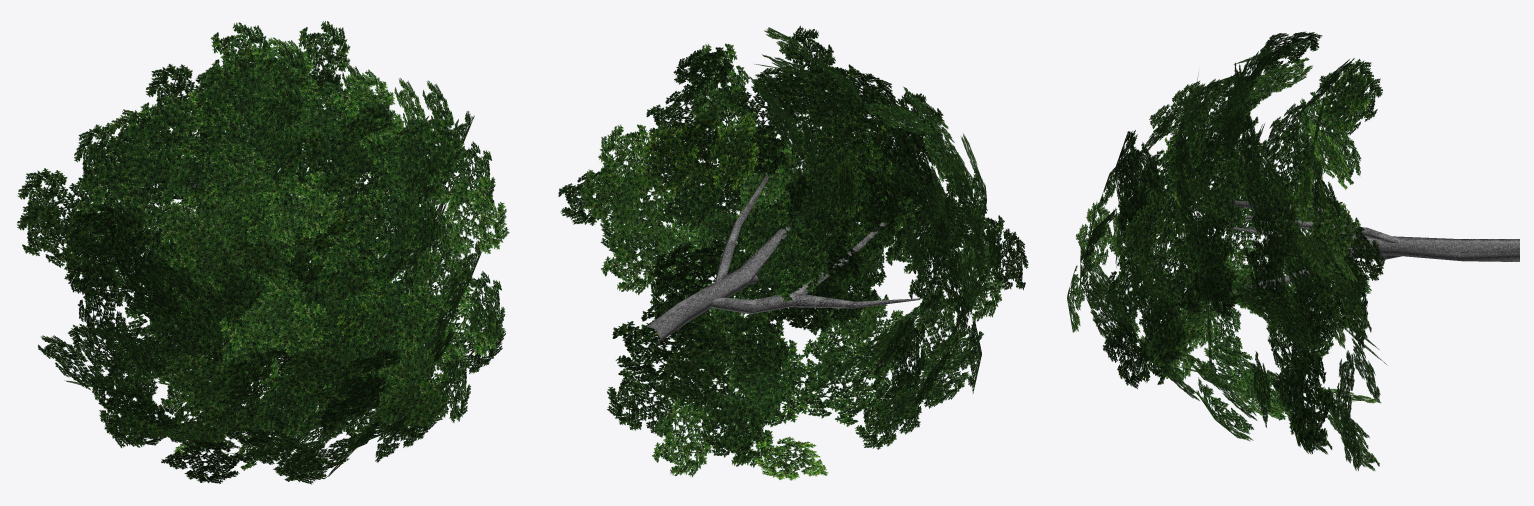
File: GuiHuaShu.gltf
3 renders of one model, left to right at view 1: azimuth 30°, elevation 25°; view 2: azimuth 150°, elevation 25°; view 3: azimuth 270°, elevation 25°, orthographic. The views are drawn at different scales.
Visible parts, largest first — view 1: Group_MatrixTransform_GuiHuaShu_Geometry_2, Group_MatrixTransform_GuiHuaShu_Geometry_1, Group_MatrixTransform_GuiHuaShu_Geometry_3; view 2: Group_MatrixTransform_GuiHuaShu_Geometry_2, Group_MatrixTransform_GuiHuaShu_Geometry_1, Group_MatrixTransform_GuiHuaShu_Geometry_3, Group_MatrixTransform_GuiHuaShu_Geometry_0; view 3: Group_MatrixTransform_GuiHuaShu_Geometry_2, Group_MatrixTransform_GuiHuaShu_Geometry_1, Group_MatrixTransform_GuiHuaShu_Geometry_3, Group_MatrixTransform_GuiHuaShu_Geometry_0.
Boxes of the visible parts, x1,y1,x2,y2 form: Group_MatrixTransform_GuiHuaShu_Geometry_2: [17, 21, 505, 483]; Group_MatrixTransform_GuiHuaShu_Geometry_1: [17, 37, 509, 484]; Group_MatrixTransform_GuiHuaShu_Geometry_3: [62, 50, 418, 470]; Group_MatrixTransform_GuiHuaShu_Geometry_2: [558, 25, 1004, 467]; Group_MatrixTransform_GuiHuaShu_Geometry_1: [578, 27, 1028, 477]; Group_MatrixTransform_GuiHuaShu_Geometry_3: [633, 110, 912, 480]; Group_MatrixTransform_GuiHuaShu_Geometry_0: [646, 174, 920, 344]; Group_MatrixTransform_GuiHuaShu_Geometry_2: [1081, 31, 1386, 470]; Group_MatrixTransform_GuiHuaShu_Geometry_1: [1067, 57, 1385, 470]; Group_MatrixTransform_GuiHuaShu_Geometry_3: [1112, 70, 1381, 403]; Group_MatrixTransform_GuiHuaShu_Geometry_0: [1196, 200, 1519, 292].
Size of the model in its own units: 6.54 by 6.44 by 6.69.
4 materials, 4 textured.
